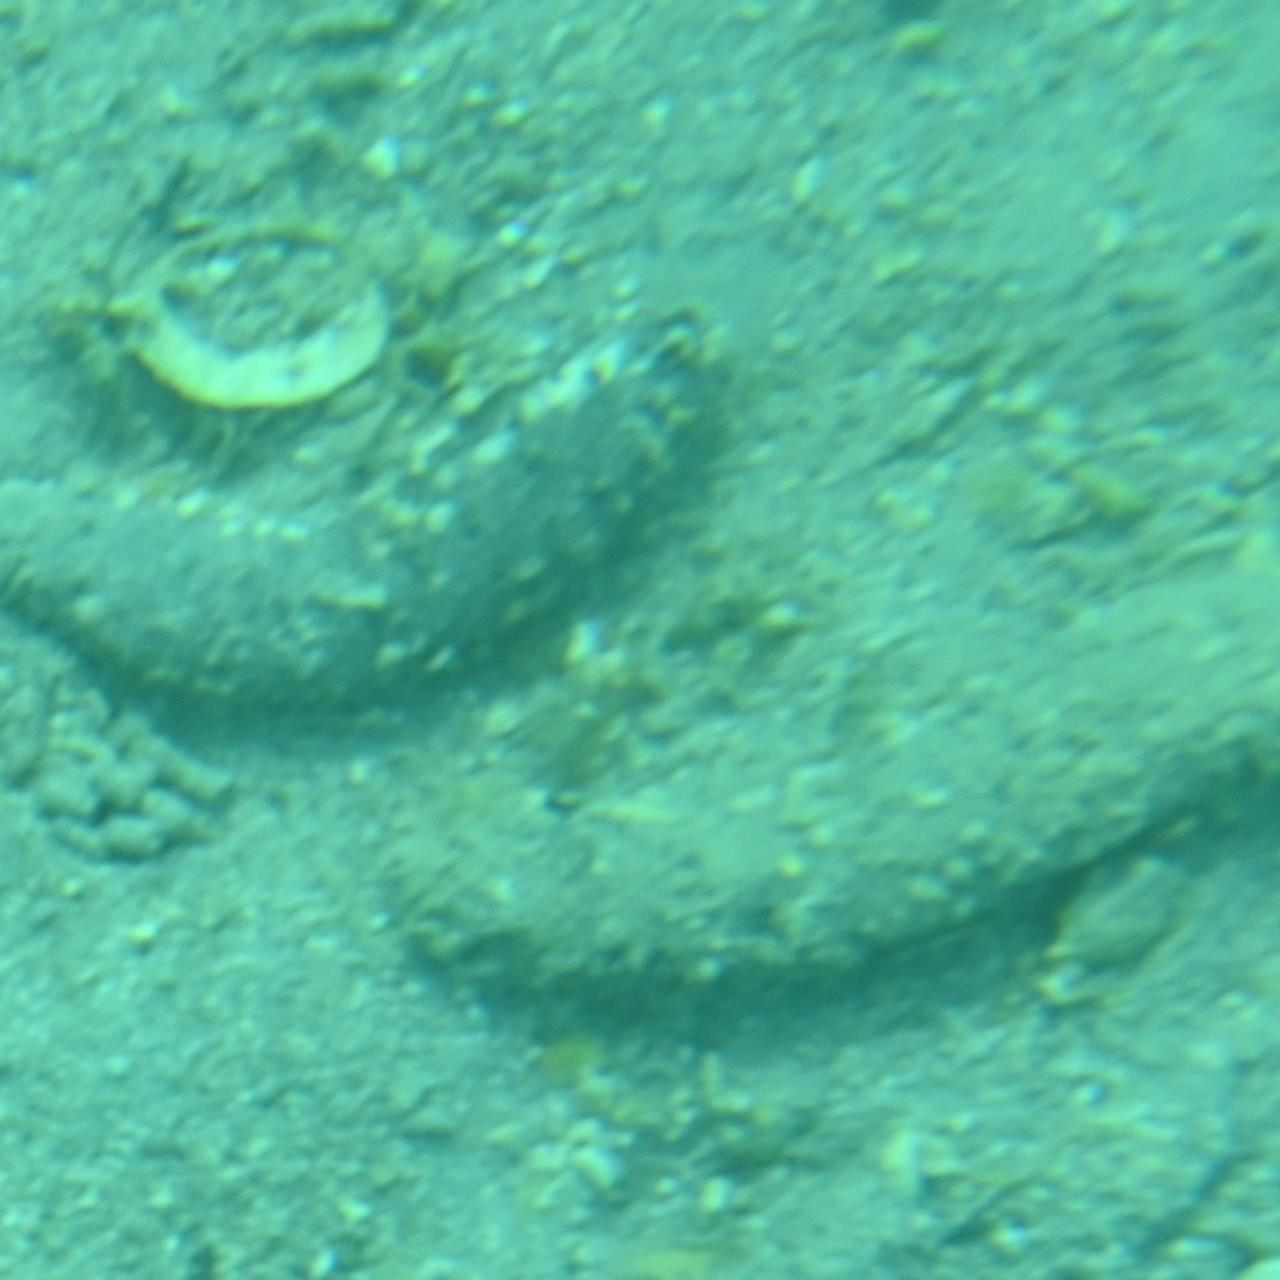Holothuria tubulosa: (354, 554, 1280, 1000), (0, 282, 735, 723)
